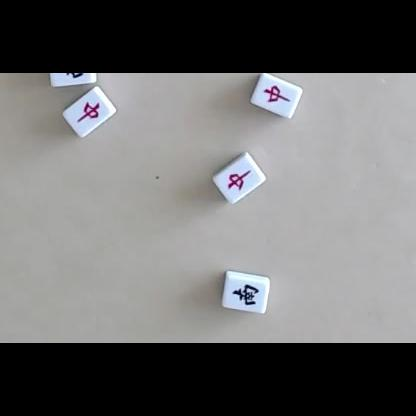2z: (232, 284, 260, 306), (58, 73, 84, 78)
7z: (227, 170, 253, 191), (263, 85, 291, 104), (77, 101, 101, 123)
